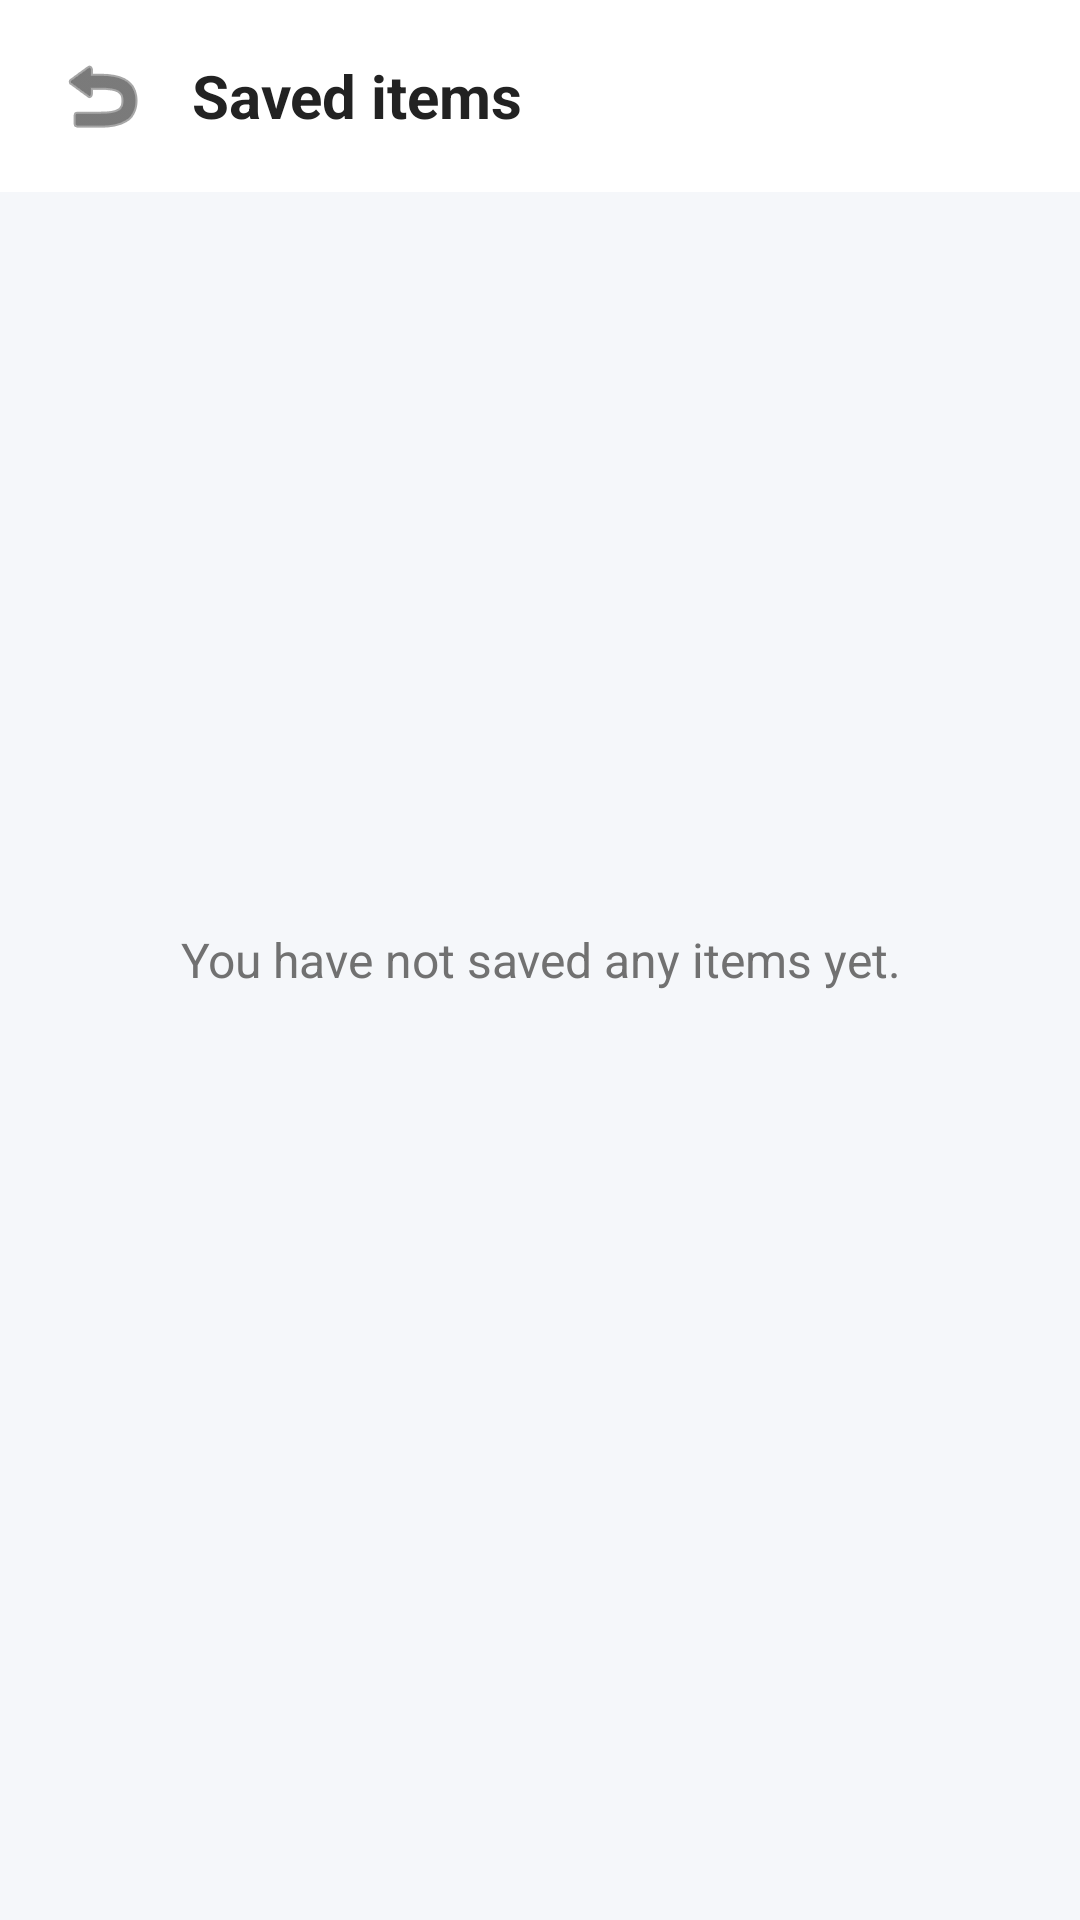

Icons on this 1080*1920 Android screen, each with the point to tap as (x,y):
Back: (103,96)
